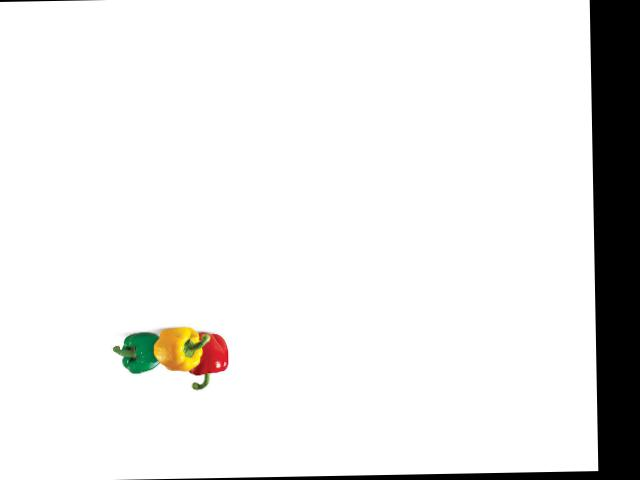bell_pepper: (114, 327, 165, 377)
